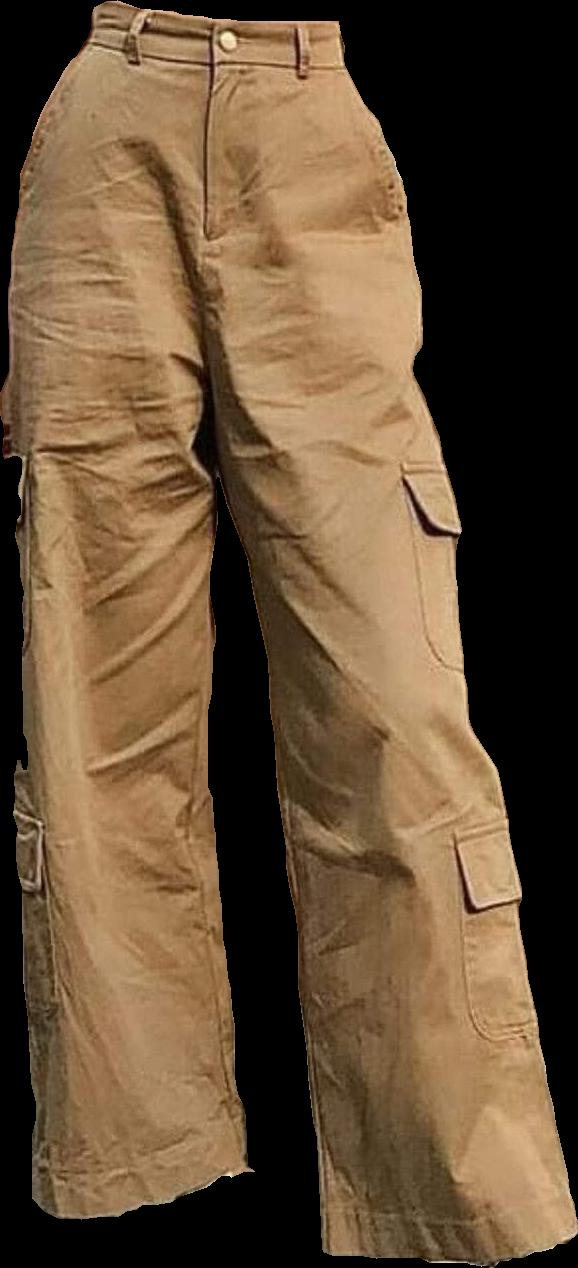Hemline: (27, 1155, 247, 1218), (319, 1223, 577, 1266)
Pantleg: (204, 18, 577, 1265), (8, 2, 248, 1217)
Waistline: (83, 34, 349, 84), (97, 0, 342, 31)
